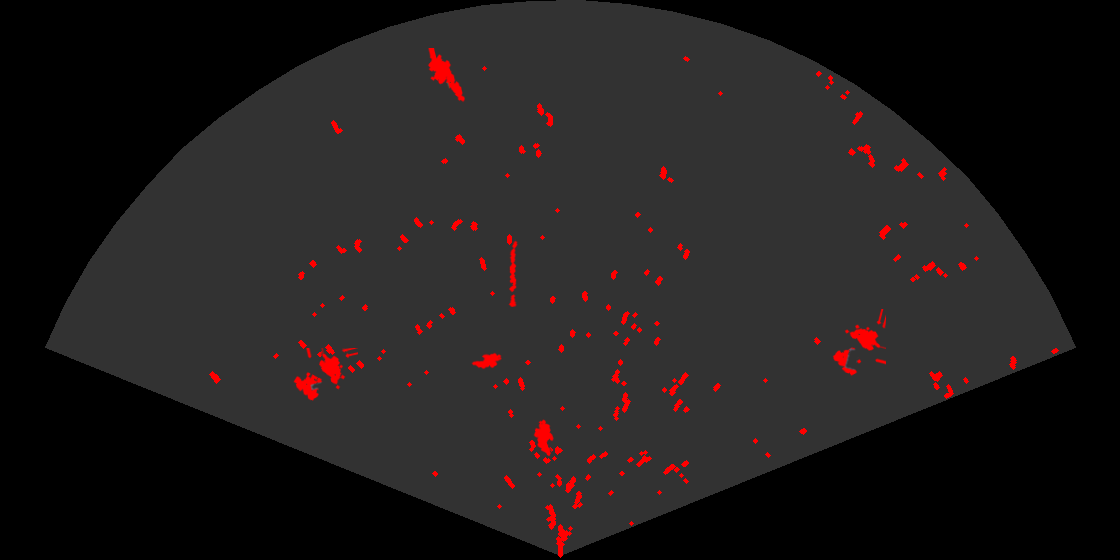AUV: (532, 418, 555, 458), (470, 351, 503, 370)
cage: (831, 309, 886, 378), (292, 348, 358, 402)
chain: (507, 239, 519, 307)
frogman: (426, 48, 466, 104)
